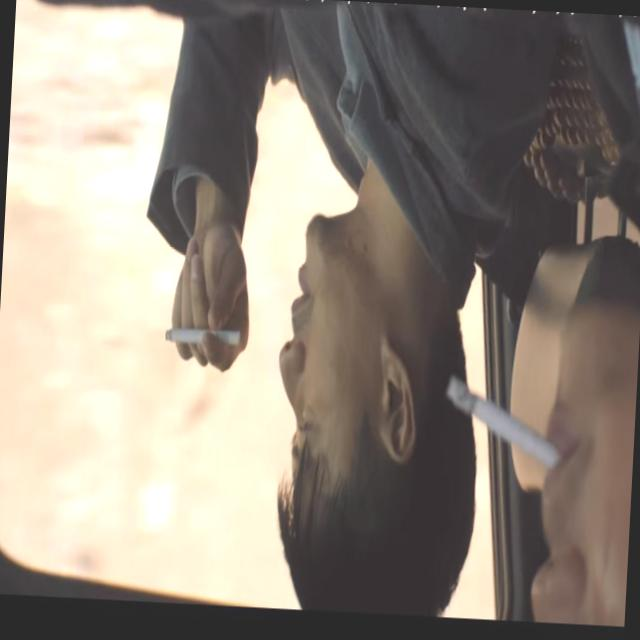smoke: (436, 376, 566, 472), (160, 317, 244, 353)
